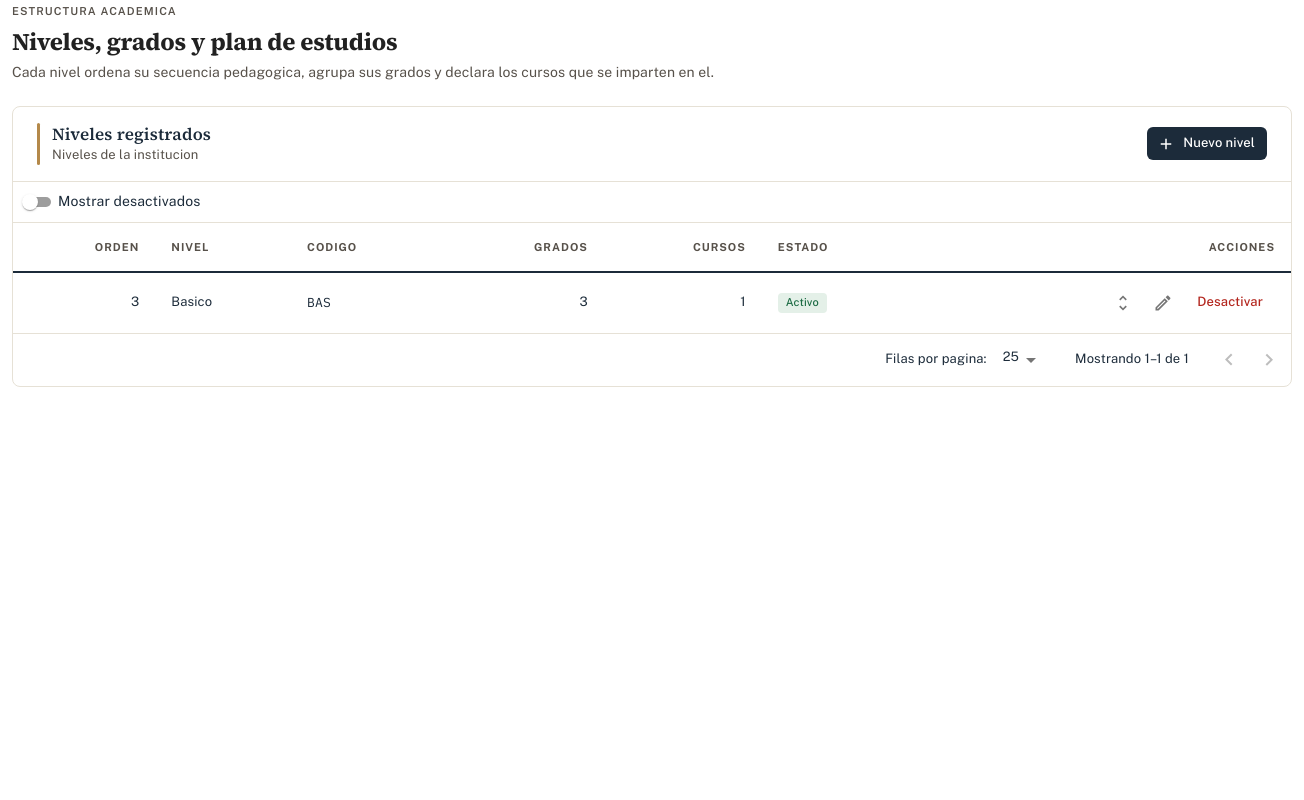
it: pantalla de niveles › avisa cuando ya no queda ningun curso por vincular
This screenshot has width=1304, height=800.
Expected: the text "Basico" is shown, x1=155 y1=272 x2=291 y2=333
Click the button named "Abrir detalle": [1123, 303] box x1=1105 y1=285 x2=1141 y2=321
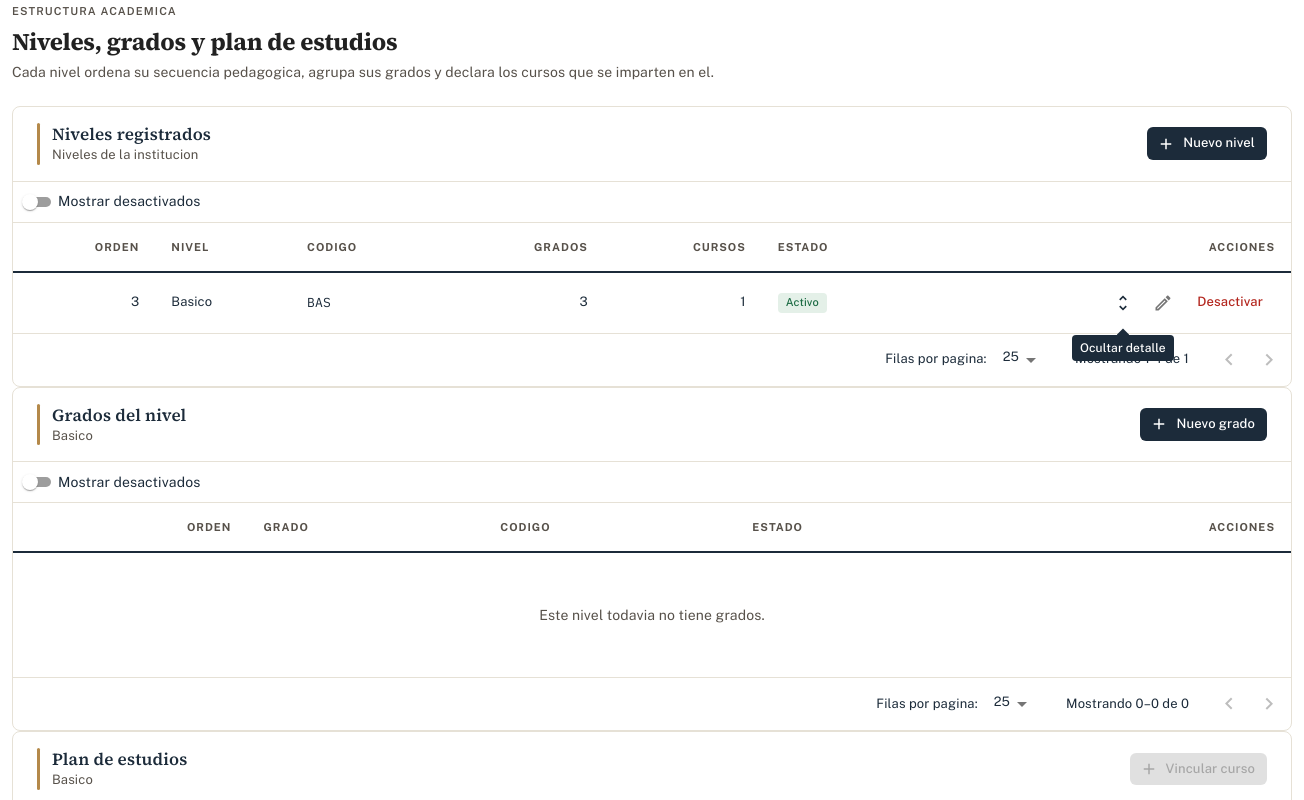
Result: the button "Vincular curso" is disabled at x1=1130 y1=753 x2=1267 y2=786
